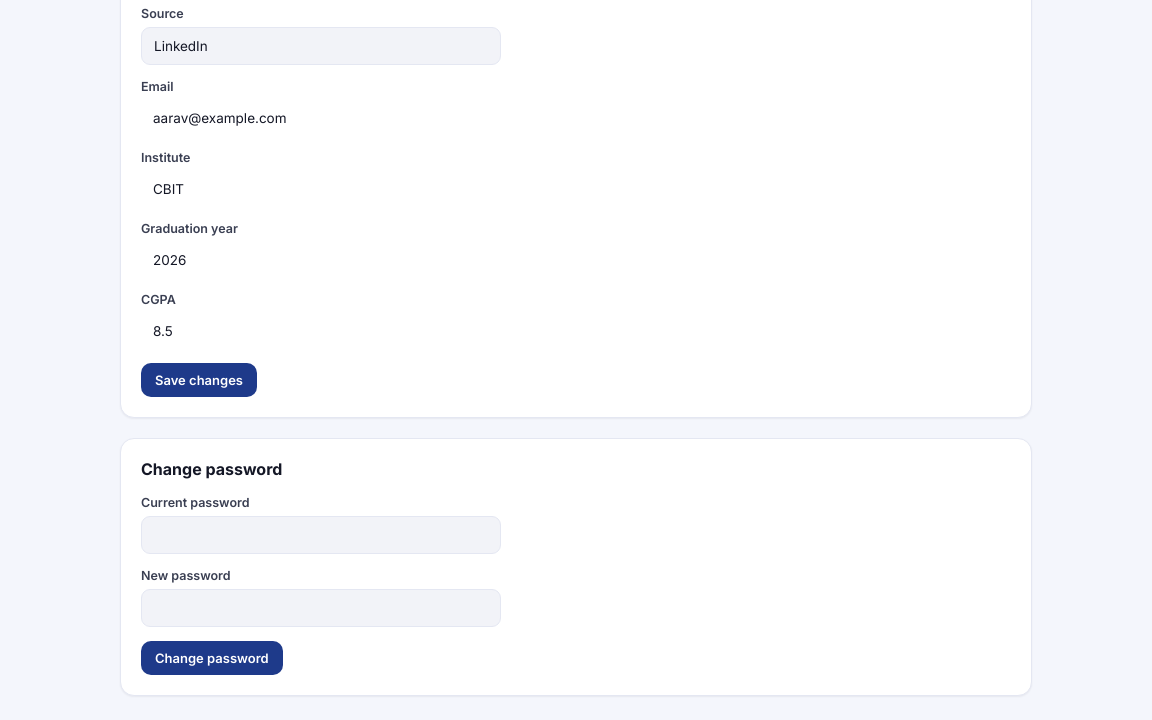
Test: Account › surfaces a wrong-current-password error via role=alert
(page scrolled)
Type "wrong" into the password field named "Current password" at (321, 535), box [141,516,501,554]
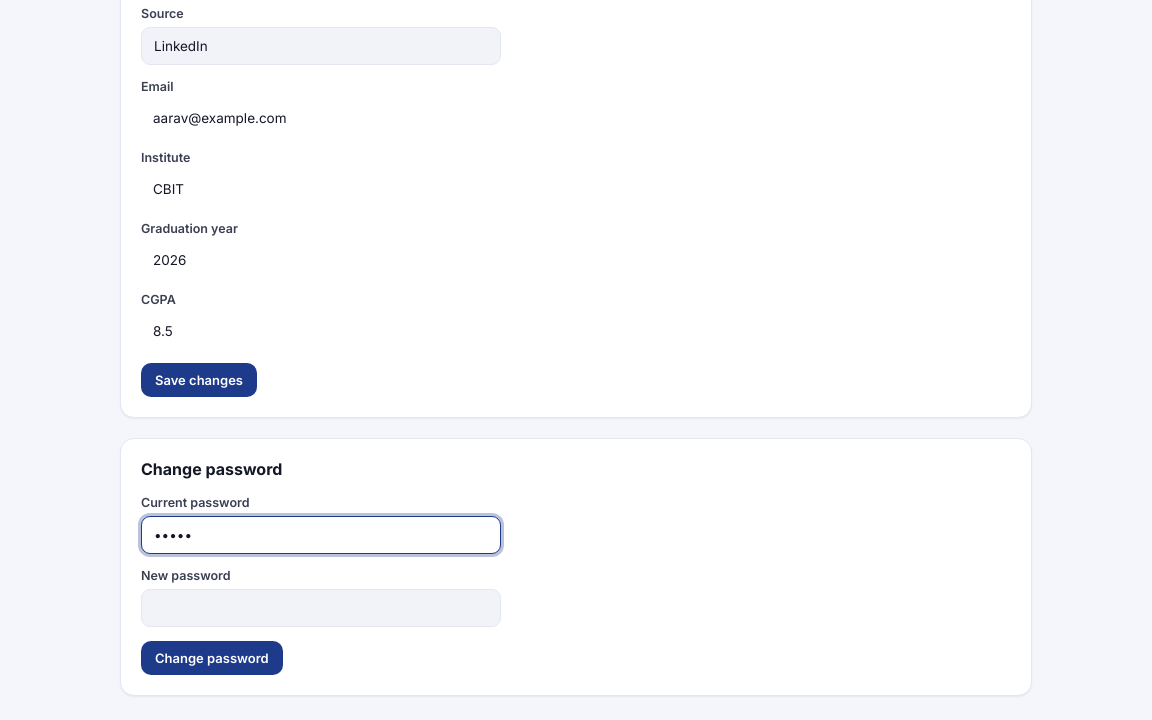
Type "newpass123" into the password field named "New password" at (321, 608), box [141,589,501,627]
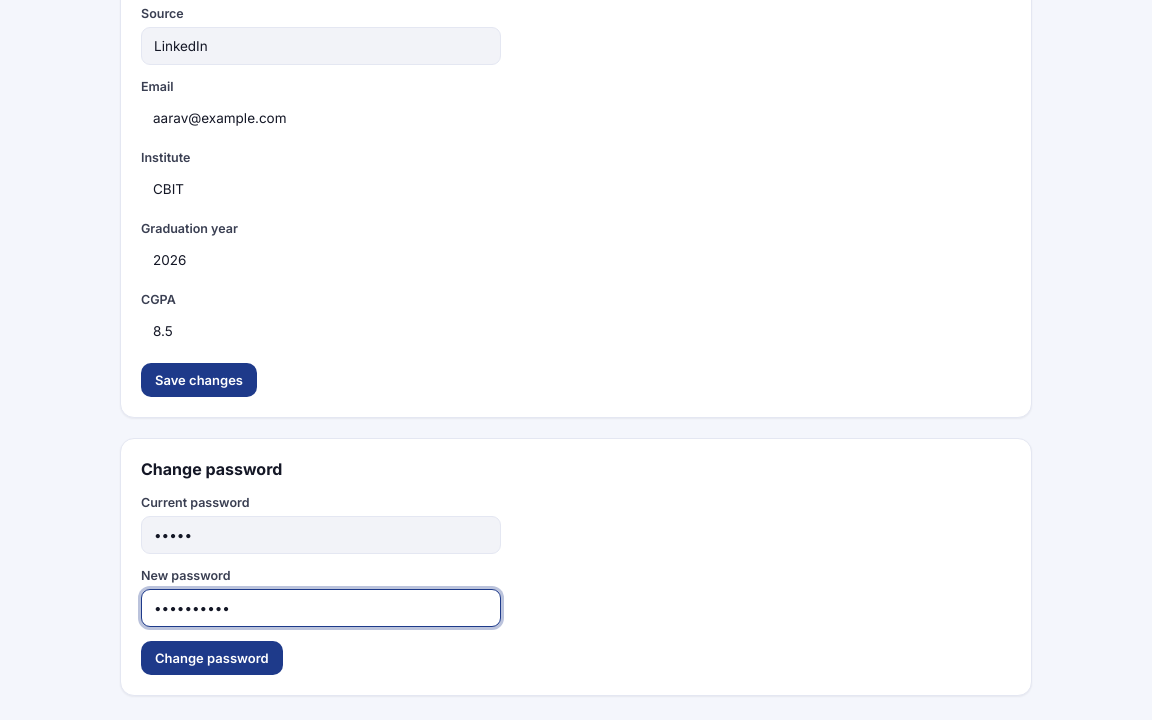
Click the button "Change password" at (212, 658), box [141,641,283,675]
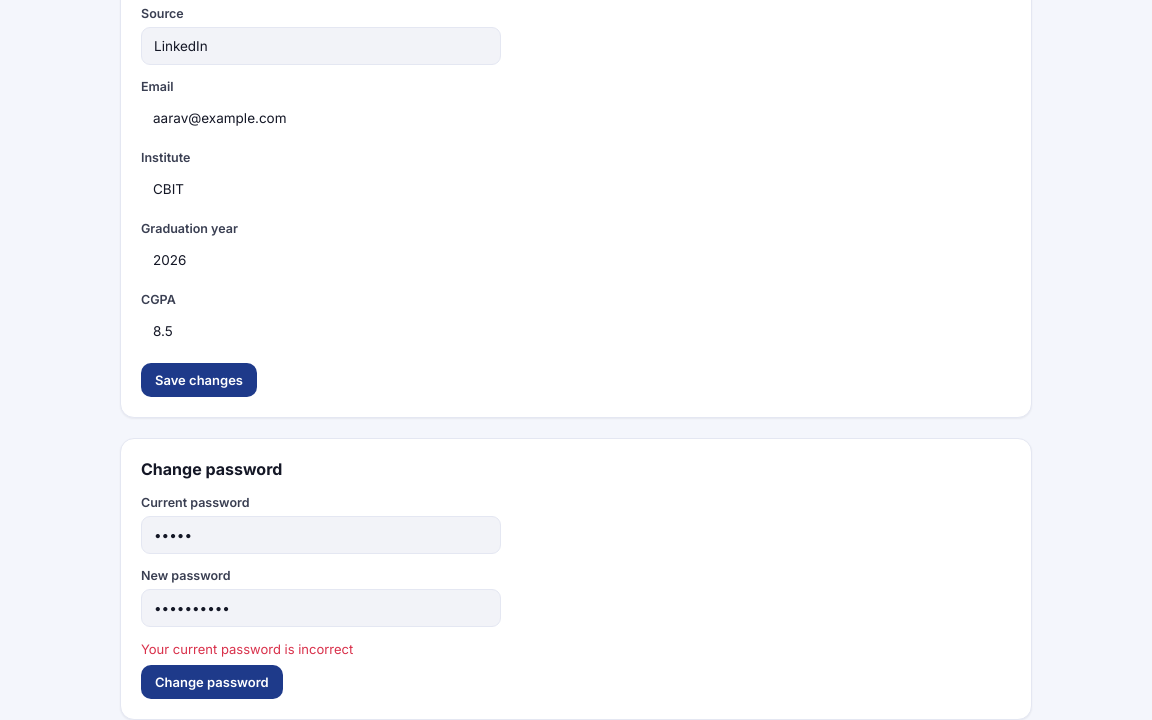
Expected: the message reads "Your current password is incorrect", [141,641,353,657]
